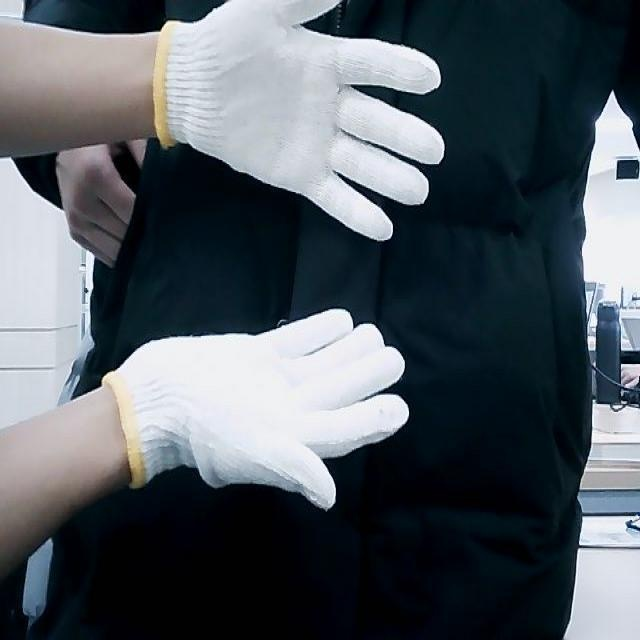Guantes: (154, 0, 447, 244), (101, 306, 412, 514)
